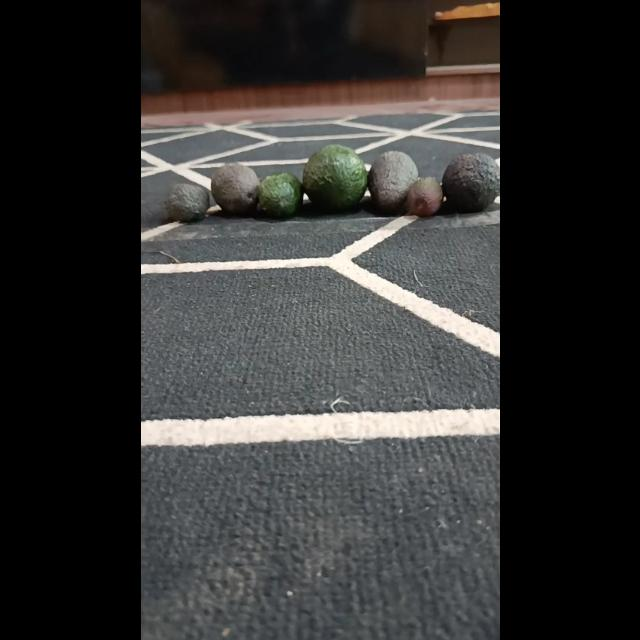Primera: (301, 144, 367, 212), (441, 152, 499, 212)
Segunda: (366, 149, 419, 215), (208, 162, 260, 215), (255, 172, 303, 218)
Tercera: (163, 182, 209, 224), (405, 176, 443, 217)
